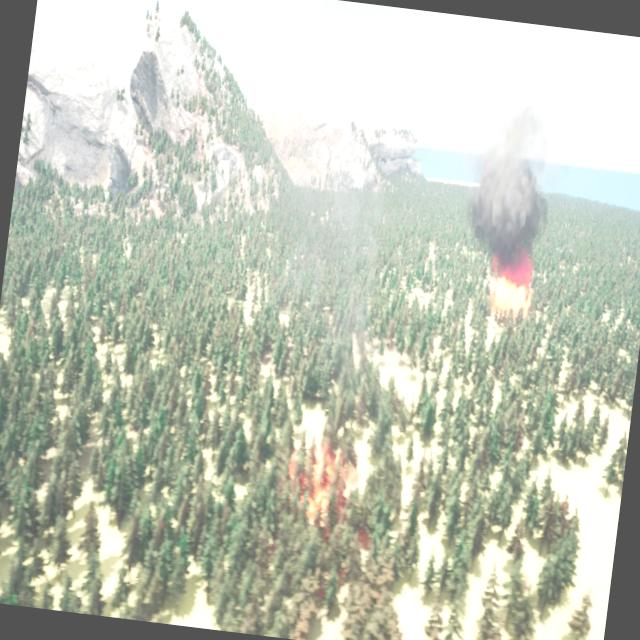fire: (284, 435, 366, 527), (483, 252, 542, 330)
smoke: (263, 113, 404, 379), (462, 95, 562, 256)
